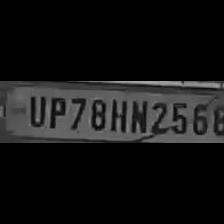2: (148, 99, 168, 136)
5: (167, 99, 187, 136)
6: (188, 101, 208, 137)
7: (65, 94, 85, 130)
8: (87, 95, 107, 131)
H: (108, 96, 127, 134)
N: (128, 98, 146, 134)
P: (44, 94, 66, 130)
U: (24, 94, 46, 128)
